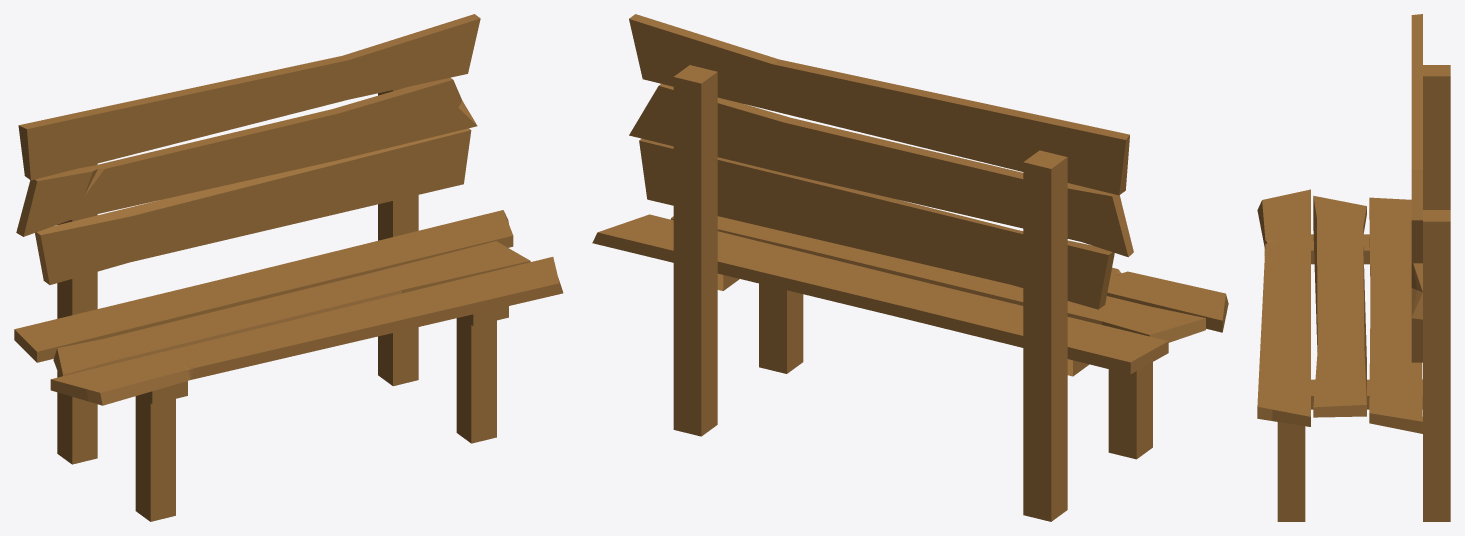
The model's file is Bench_4.fbx.
3 renders of one model, left to right at view 1: azimuth 30°, elevation 25°; view 2: azimuth 150°, elevation 25°; view 3: azimuth 270°, elevation 25°, orthographic. The views are drawn at different scales.
Parts seen in each view (by area): view 1: Bench_4; view 2: Bench_4; view 3: Bench_4.
Part boxes in pixels (bbox=[...]): Bench_4: bbox=[14, 14, 563, 521]; Bench_4: bbox=[592, 14, 1228, 521]; Bench_4: bbox=[1257, 14, 1450, 521].
Bounding box in the file's own units: 159 × 55.53 × 104.
